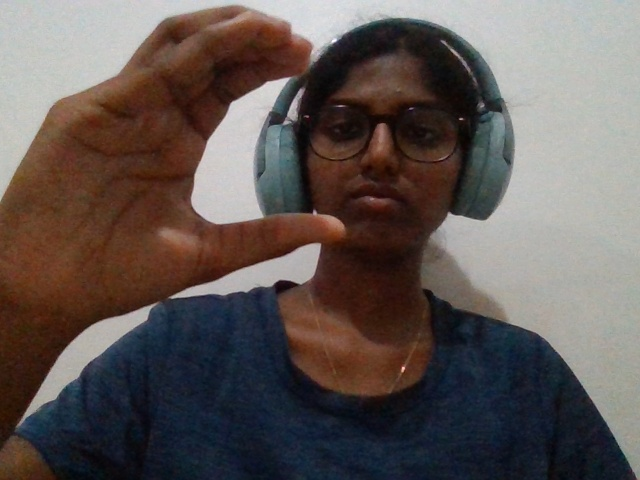C: (3, 3, 384, 386)
